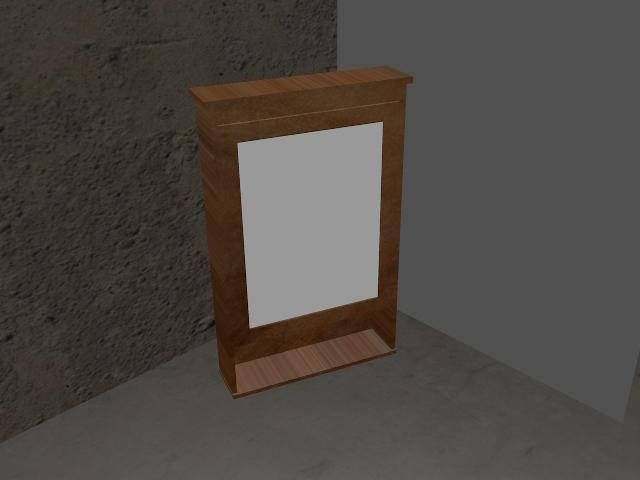cabinet_door: (218, 97, 400, 328)
